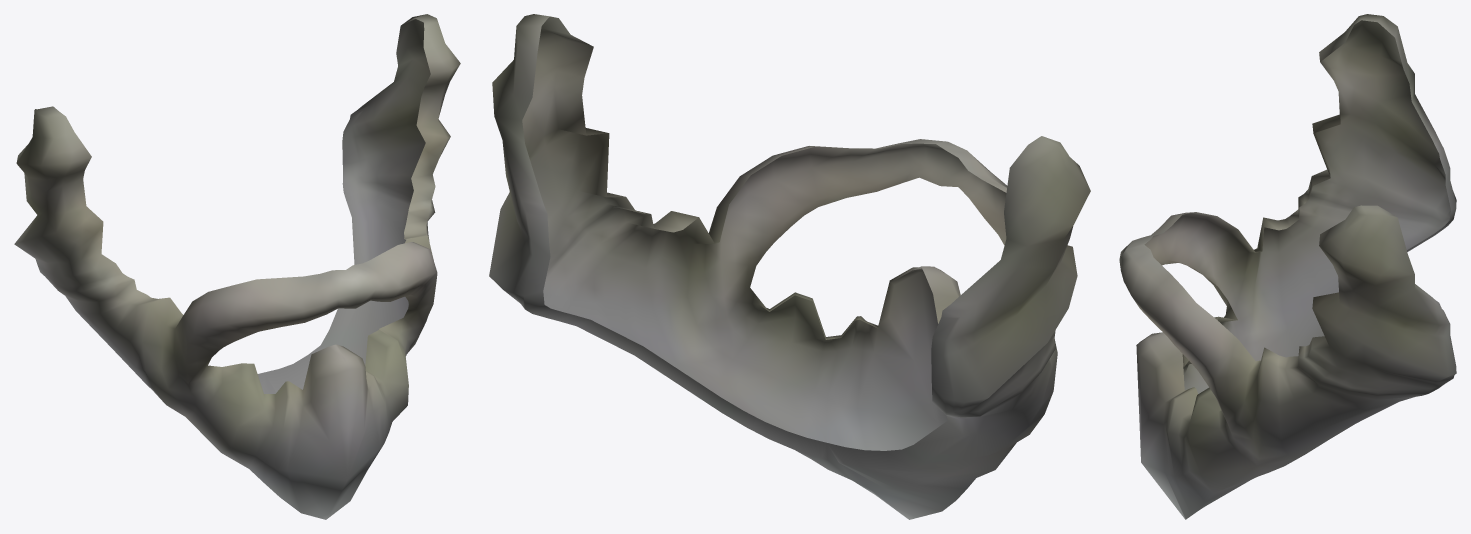
File: web_Hair_Beard.glb
3 views of the same model, side by side, from view 1: azimuth 30°, elevation 25°; view 2: azimuth 150°, elevation 25°; view 3: azimuth 270°, elevation 25° (orthographic). The views are drawn at different scales.
Parts seen in each view (by area): view 1: Hair_Beard; view 2: Hair_Beard; view 3: Hair_Beard.
Part boxes in pixels (x1,y1,x2,y2): Hair_Beard: [14, 14, 460, 519]; Hair_Beard: [489, 14, 1090, 519]; Hair_Beard: [1119, 14, 1456, 519].
Size of the model in its own units: 0.1615 by 0.1398 by 0.1049.
Materials: 1 (1 with a texture image).
